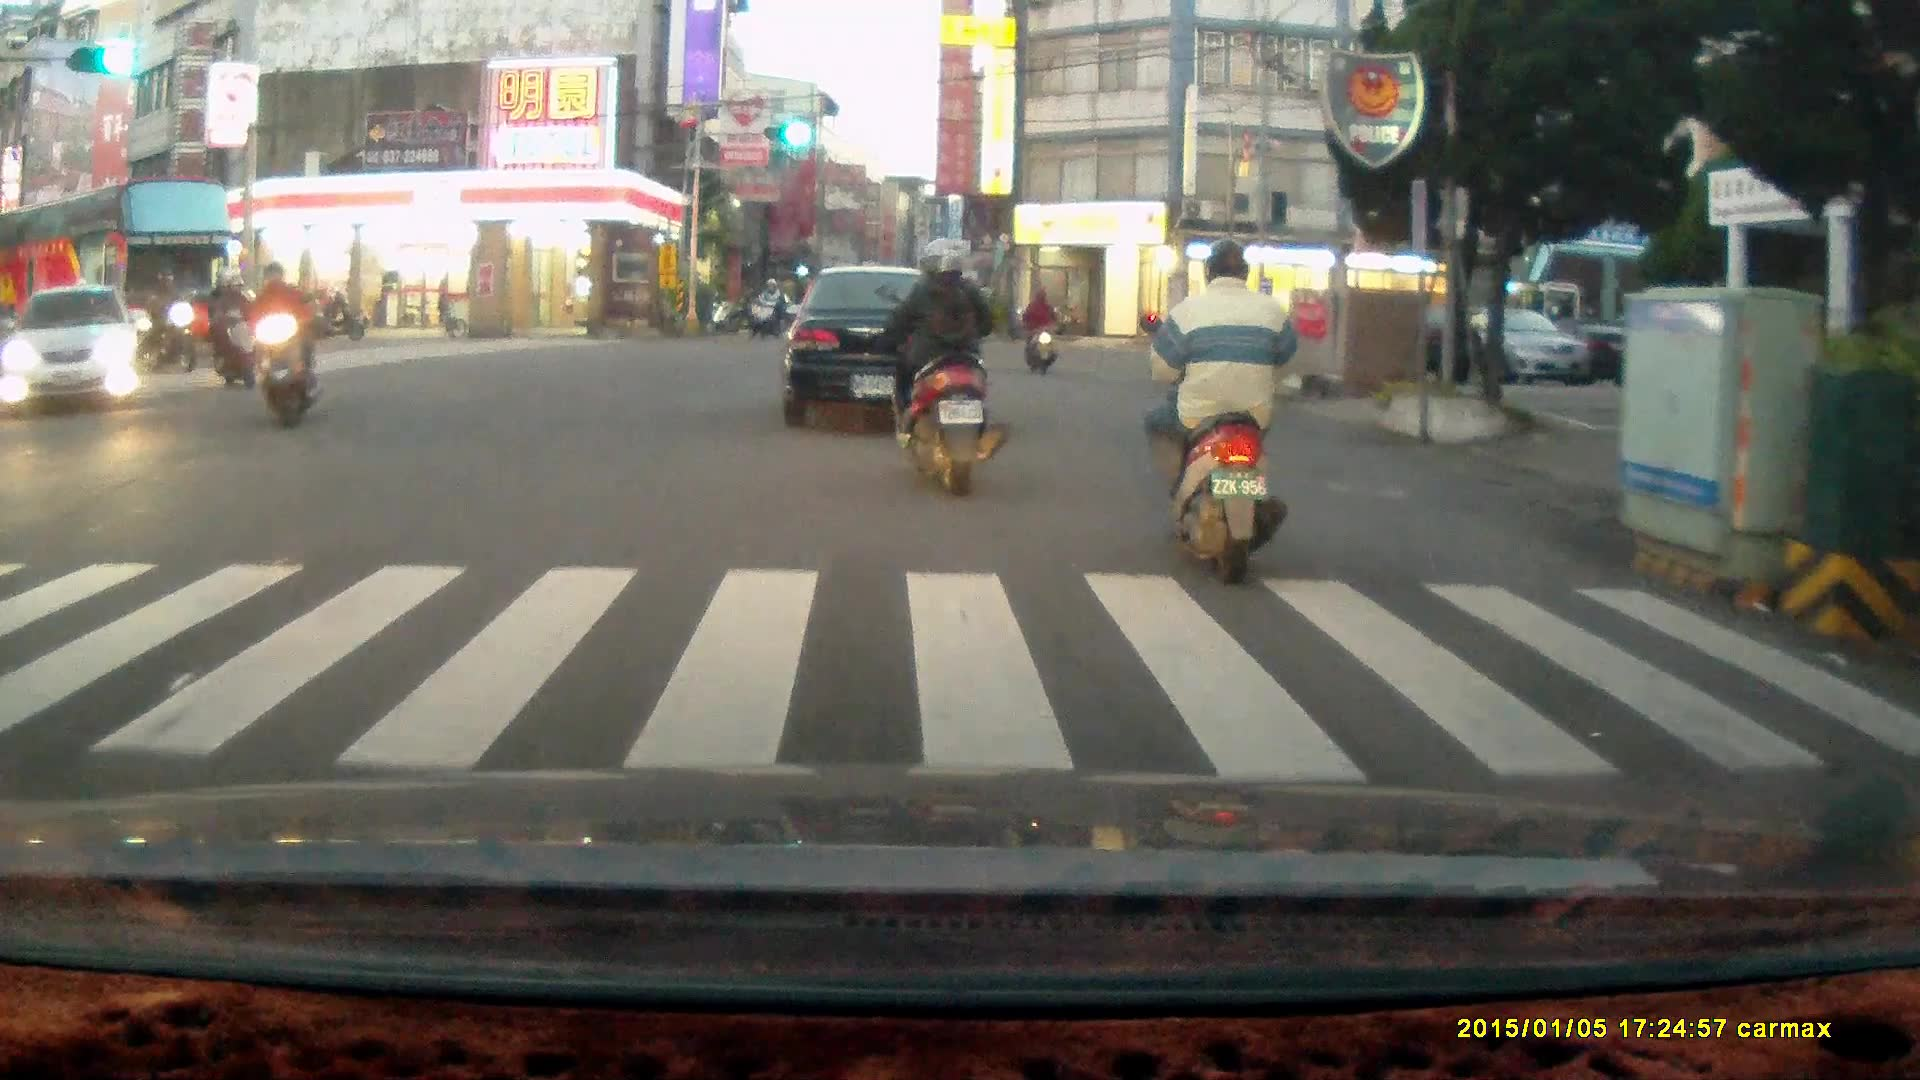rider: (1136, 238, 1294, 582), (871, 229, 1012, 497), (237, 262, 318, 440), (201, 267, 259, 394), (139, 265, 198, 375), (1020, 279, 1059, 370), (745, 284, 780, 348)
vehicle: (1, 185, 235, 360), (4, 289, 141, 418), (1403, 301, 1594, 387)
